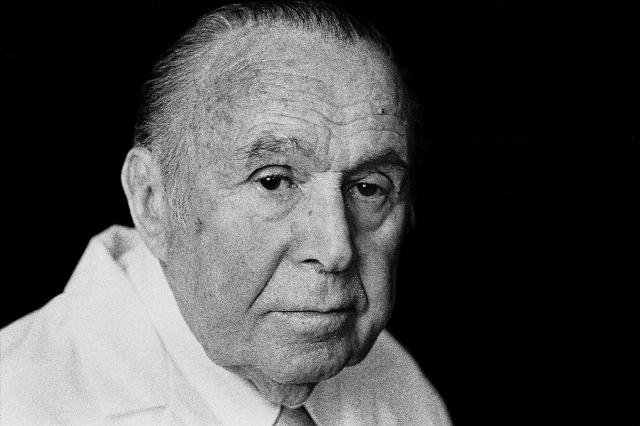crows_feet: (230, 176, 250, 192)
forehead: (272, 92, 346, 130), (358, 104, 400, 141), (262, 64, 320, 82)
frown_line: (318, 164, 344, 180), (322, 132, 336, 158)
gummy_smile: (252, 242, 288, 304), (352, 266, 376, 312)
